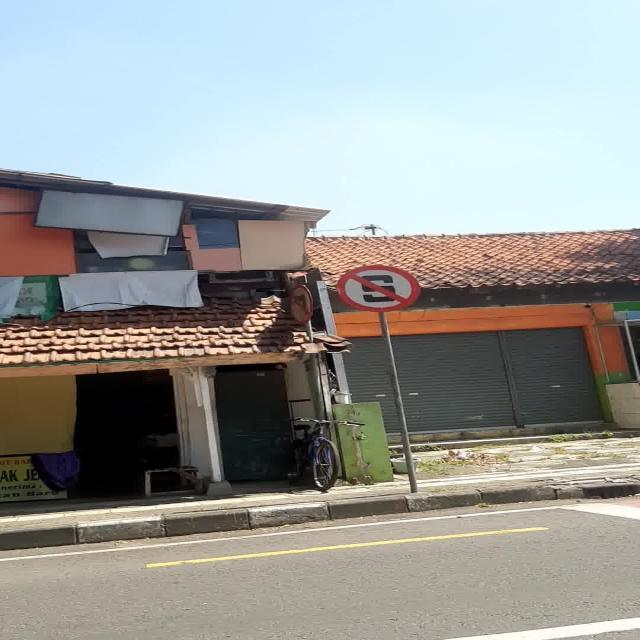Dilarang Berhenti: (337, 265, 420, 312)
